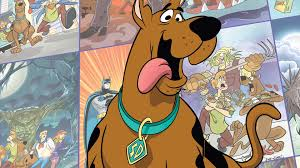scooby: (86, 1, 281, 168)
